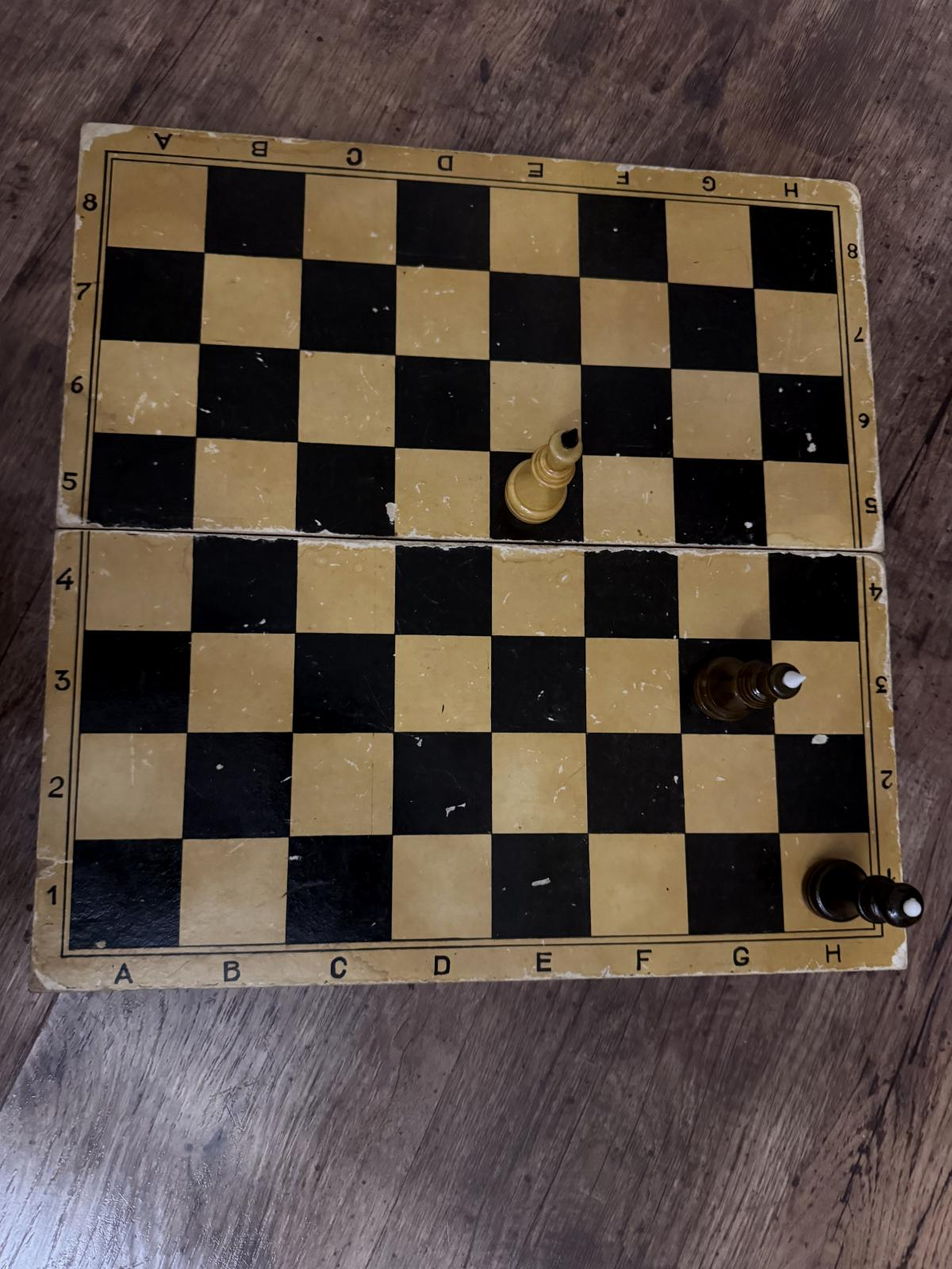Chess-Board: (70, 159, 875, 948)
